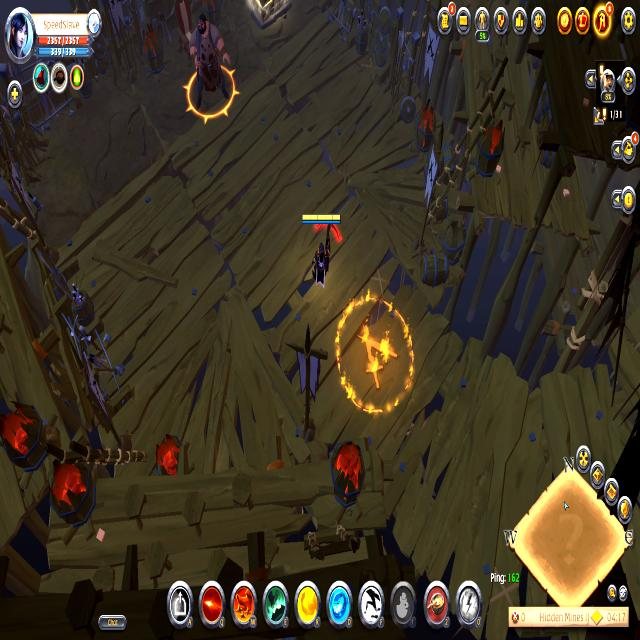ore: (178, 8, 241, 129)
red: (298, 205, 344, 290)
